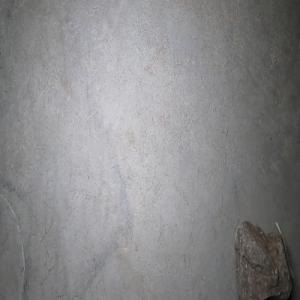Rock: (233, 220, 294, 300)
